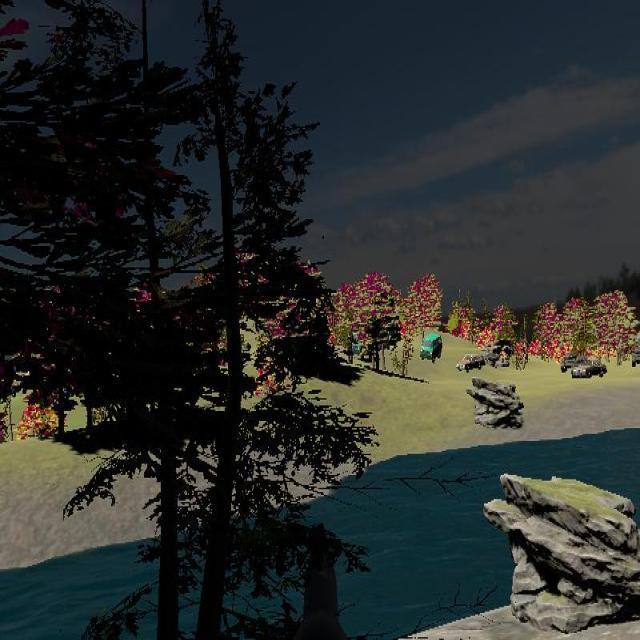car: (572, 358, 607, 379), (420, 333, 442, 362), (456, 354, 485, 373), (632, 346, 640, 368)
